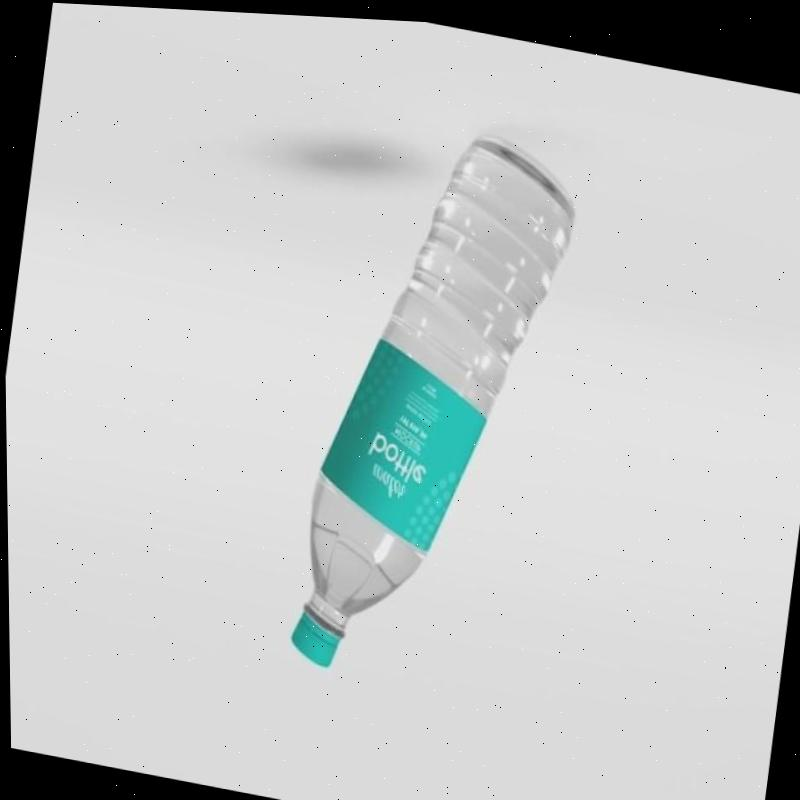botella: (277, 98, 590, 699)
